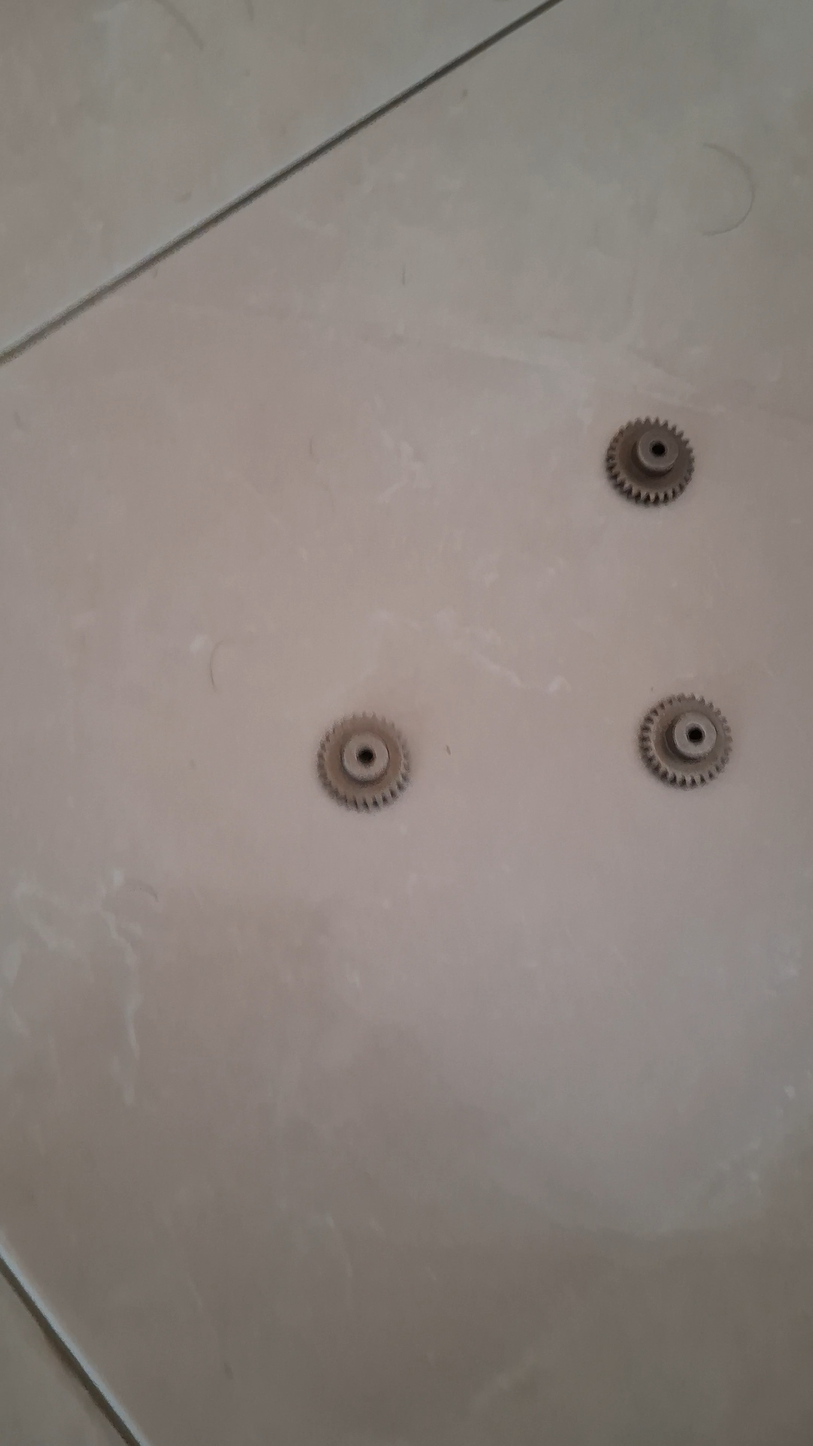spur gear: (318, 715, 409, 810), (639, 695, 731, 787), (606, 418, 694, 504)
